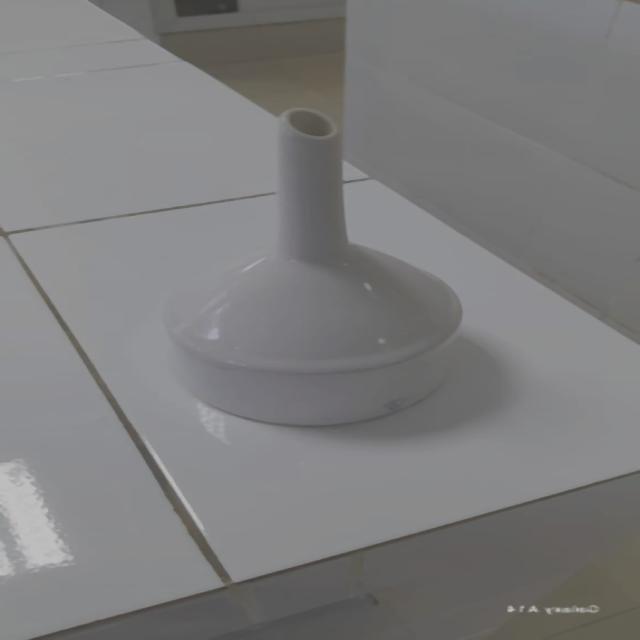Bunchen funnel: (142, 100, 468, 432)
